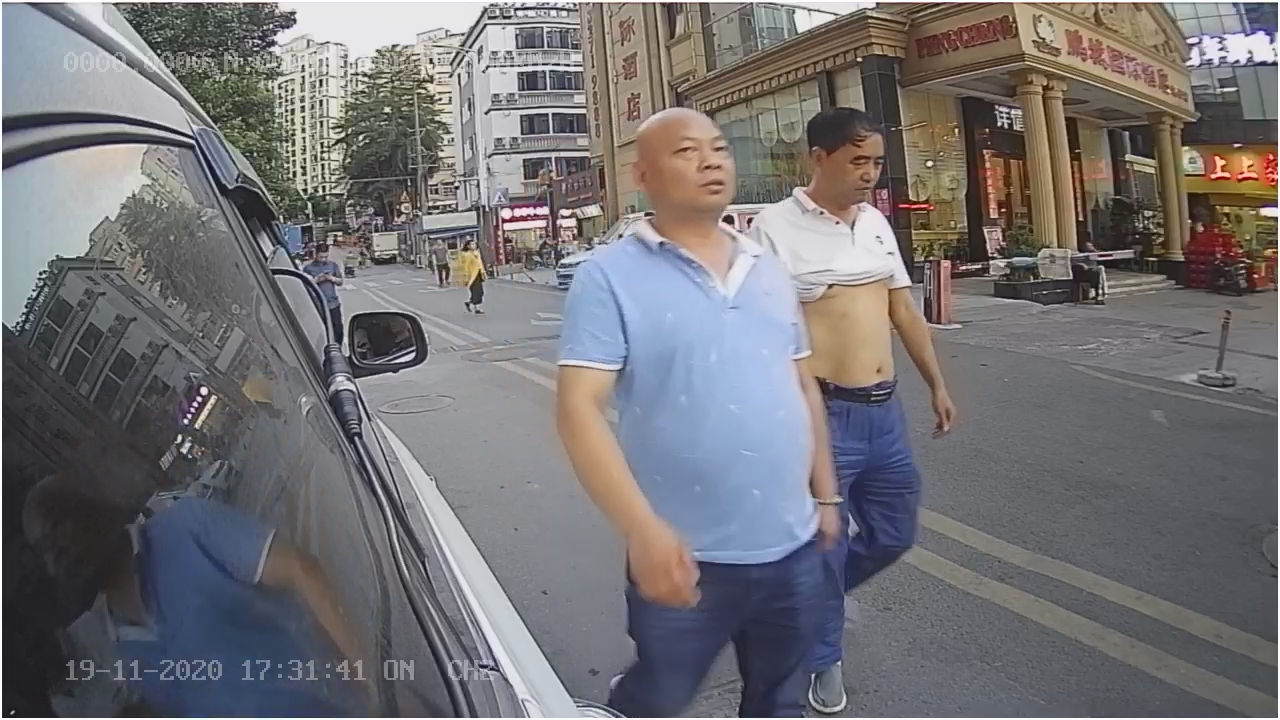person: (569, 110, 809, 629)
